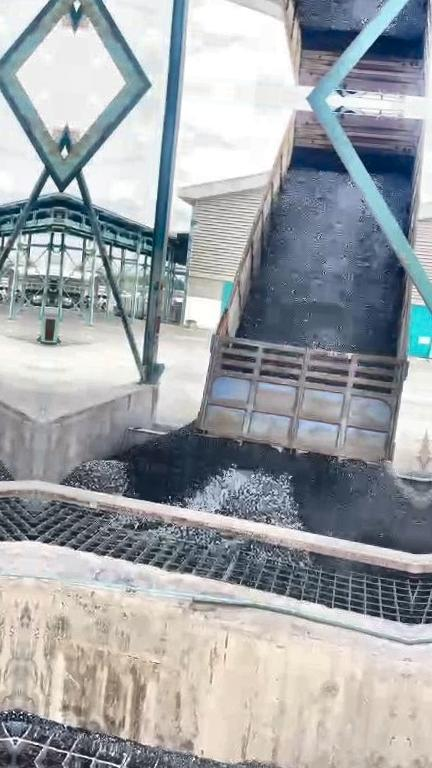gravel: (121, 424, 420, 552), (237, 168, 403, 355), (13, 711, 344, 768), (119, 516, 308, 565), (182, 466, 302, 528), (63, 460, 131, 495), (373, 172, 410, 231)
